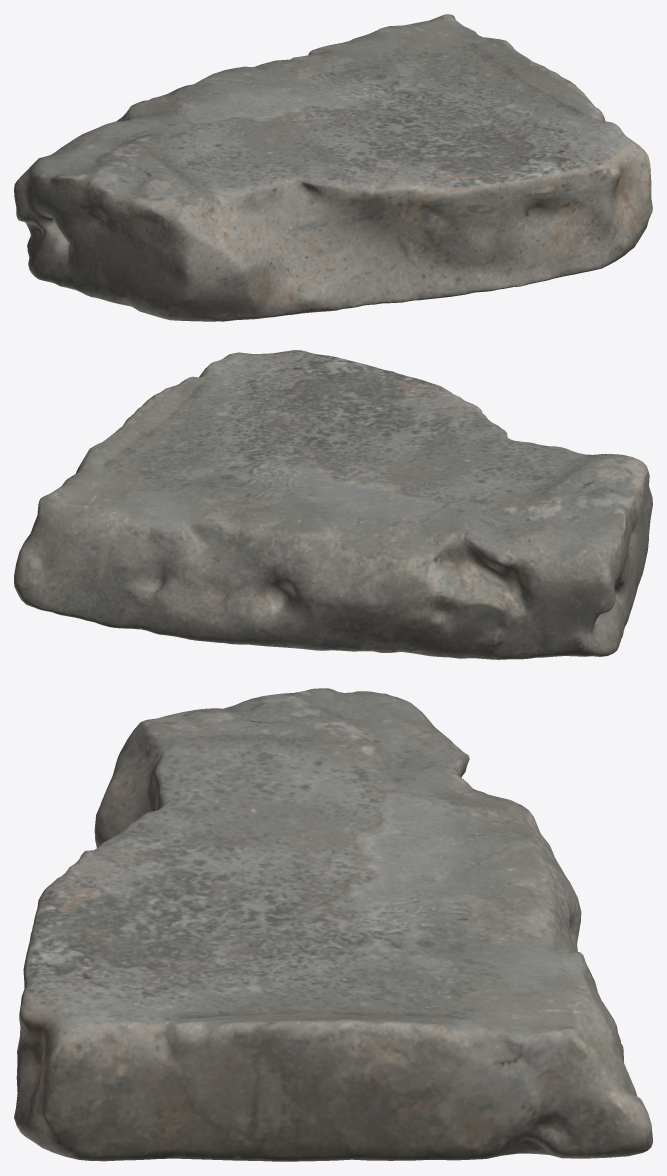
File: Rock1.fbx
The picture shows the model from 3 angles, top to bottom: view 1: azimuth 30°, elevation 25°; view 2: azimuth 150°, elevation 25°; view 3: azimuth 270°, elevation 25°; orthographic projection. The views are drawn at different scales.
Parts seen in each view (by area): view 1: Aset_debris_construction_S_tmkhdecva_00_LOD0; view 2: Aset_debris_construction_S_tmkhdecva_00_LOD0; view 3: Aset_debris_construction_S_tmkhdecva_00_LOD0.
Boxes of the visible parts, <box> form: Aset_debris_construction_S_tmkhdecva_00_LOD0: <box>14,14,652,321</box>; Aset_debris_construction_S_tmkhdecva_00_LOD0: <box>14,350,652,659</box>; Aset_debris_construction_S_tmkhdecva_00_LOD0: <box>14,688,652,1161</box>.
Bounding box in the file's own units: 36.83 × 8.86 × 29.41.
